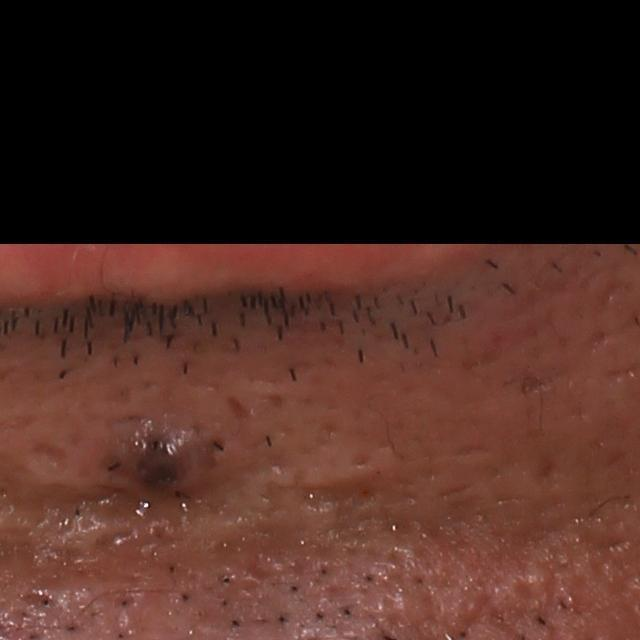atrophic_scar: (211, 525, 307, 585), (36, 480, 139, 534), (305, 477, 379, 519), (26, 440, 67, 473), (225, 394, 250, 422)
hypertrophic_scar: (263, 453, 396, 494)
nevus: (109, 409, 220, 501)
